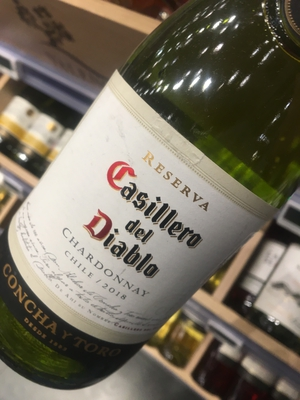casillero del diablo chardonnay: (13, 63, 280, 390)
